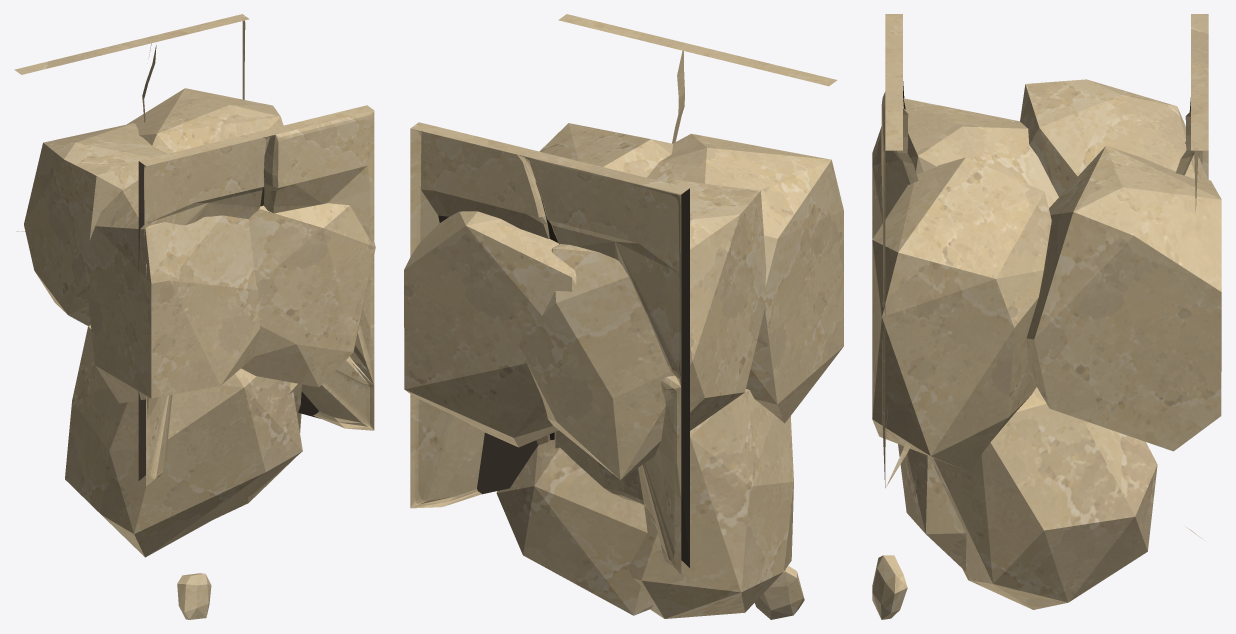
File: ground_bottom_square_strip_07.glb
3 views of the same model, side by side, from view 1: azimuth 30°, elevation 25°; view 2: azimuth 150°, elevation 25°; view 3: azimuth 270°, elevation 25° (orthographic). The views are drawn at different scales.
Parts seen in each view (by area): view 1: GroundBottomSquareStrip07_Body; view 2: GroundBottomSquareStrip07_Body; view 3: GroundBottomSquareStrip07_Body.
Part boxes in pixels (left/top/right/bottom): GroundBottomSquareStrip07_Body: left=14, top=14, right=375, bottom=619; GroundBottomSquareStrip07_Body: left=404, top=14, right=843, bottom=619; GroundBottomSquareStrip07_Body: left=872, top=14, right=1221, bottom=619.
Bounding box in the file's own units: 1 × 1.95 × 1.08.
9 materials, 8 textured.
